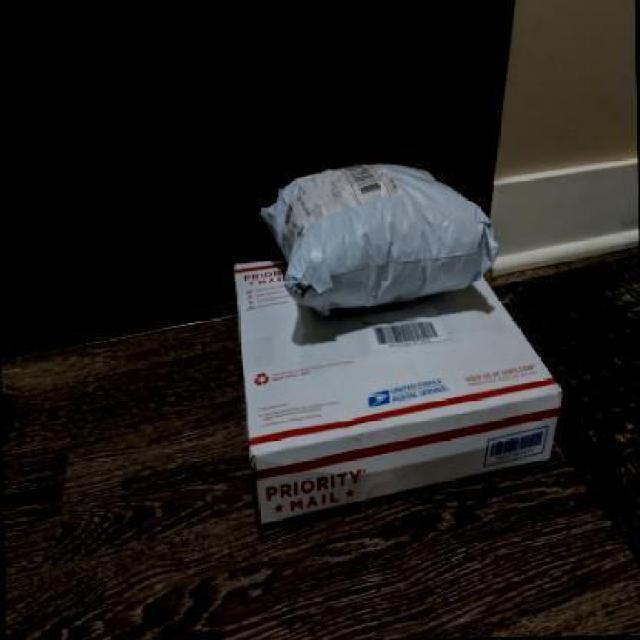box: (235, 250, 558, 531)
